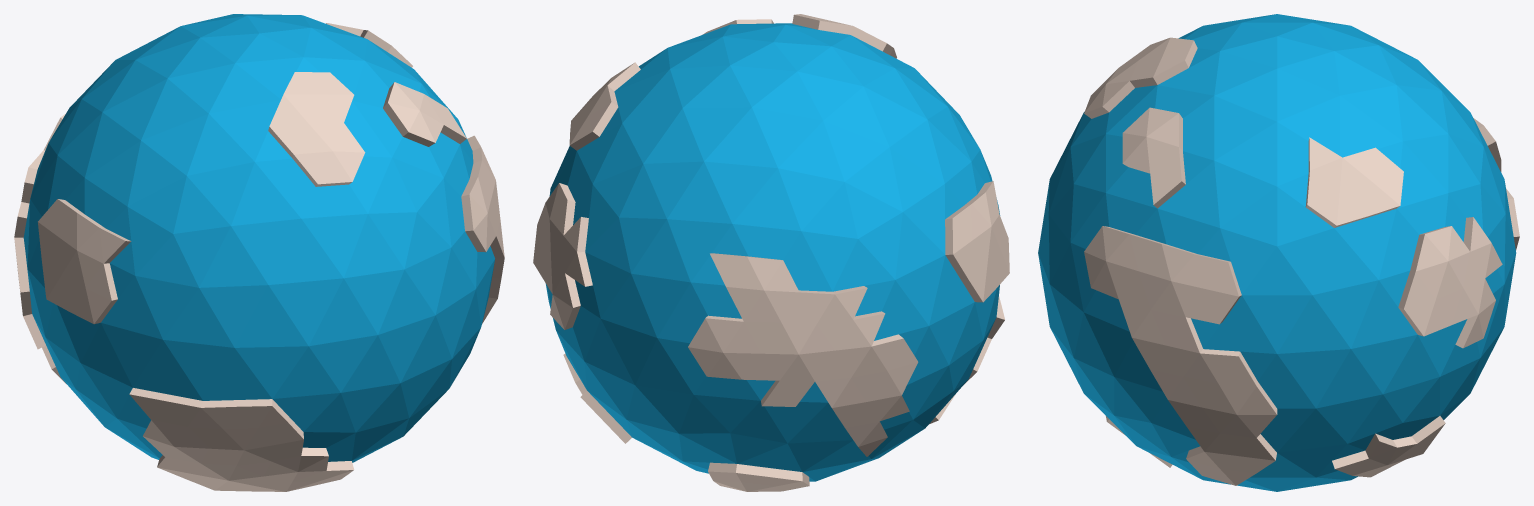
Rendered from Planet06.glb.
The picture shows the model from 3 angles, left to right: view 1: azimuth 30°, elevation 25°; view 2: azimuth 150°, elevation 25°; view 3: azimuth 270°, elevation 25°; orthographic projection. The views are drawn at different scales.
Parts seen in each view (by area): view 1: Planet06; view 2: Planet06; view 3: Planet06.
Part boxes in pixels (left/top/right/bottom): Planet06: left=14, top=14, right=504, bottom=491; Planet06: left=533, top=14, right=1009, bottom=491; Planet06: left=1038, top=14, right=1519, bottom=491.
Size of the model in its own units: 1.02 by 0.9939 by 1.
